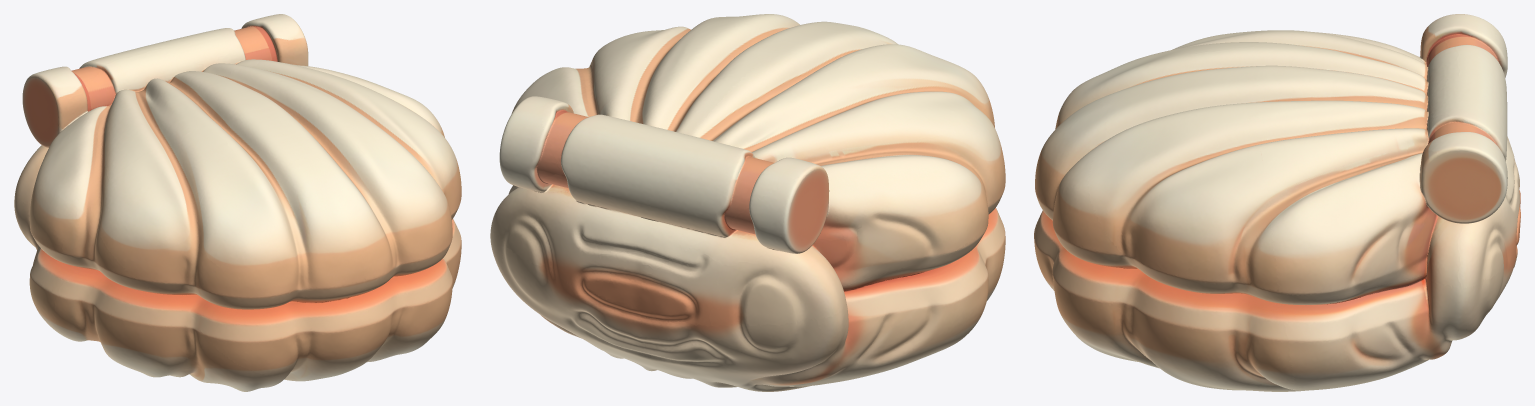
Rendered from plump-closed-scallop-meshy6-v1.glb.
The picture shows the model from 3 angles, left to right: view 1: azimuth 30°, elevation 25°; view 2: azimuth 150°, elevation 25°; view 3: azimuth 270°, elevation 25°; orthographic projection. The views are drawn at different scales.
Size of the model in its own units: 1.9 by 1.14 by 1.83.
Materials: 1 (1 with a texture image).
